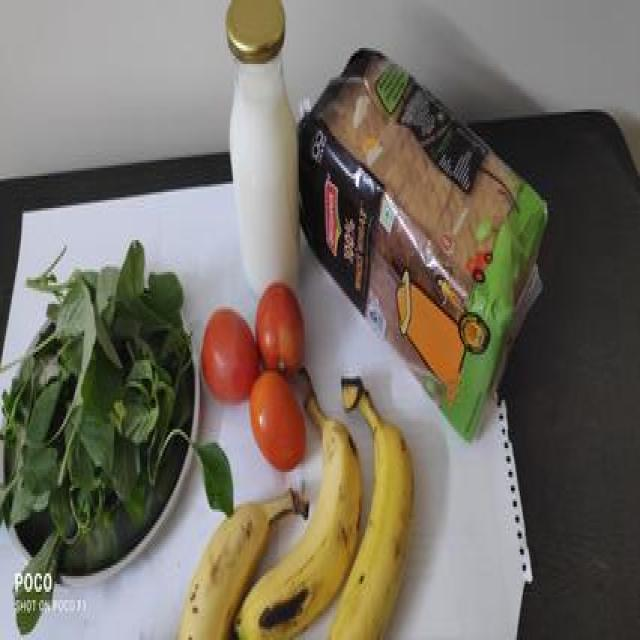Fresh_Spinach: (19, 256, 183, 537)
Fresh_tomato: (192, 269, 330, 471), (249, 370, 304, 473), (201, 309, 260, 404), (255, 275, 308, 378)
